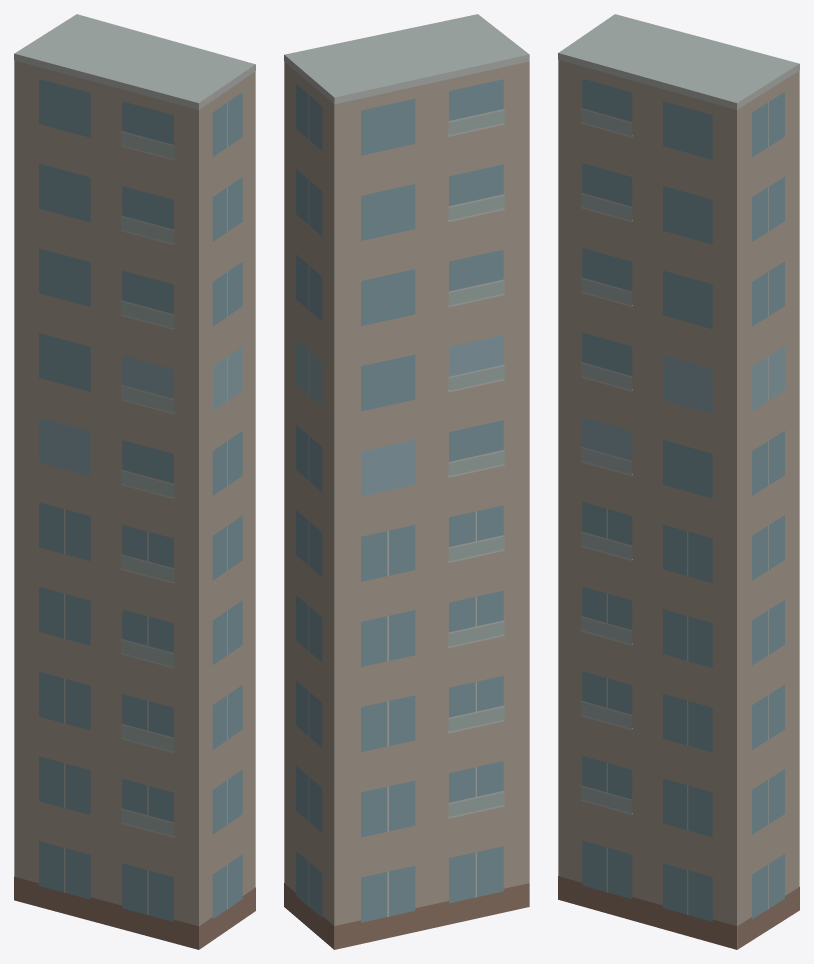
Rendered from survey-upis-32778717.glb.
The picture shows the model from 3 angles, left to right: view 1: azimuth 90°, elevation 25°; view 2: azimuth 150°, elevation 25°; view 3: azimuth 270°, elevation 25°; orthographic projection.
Visible parts, largest first — view 1: survey-upis-32778717.tmp; view 2: survey-upis-32778717.tmp; view 3: survey-upis-32778717.tmp.
Part boxes in pixels (x1=…): survey-upis-32778717.tmp: x1=14, y1=14, x2=255, y2=949; survey-upis-32778717.tmp: x1=284, y1=14, x2=529, y2=949; survey-upis-32778717.tmp: x1=558, y1=14, x2=799, y2=949.
Size of the model in its own units: 6.9 by 30.5 by 7.89.
